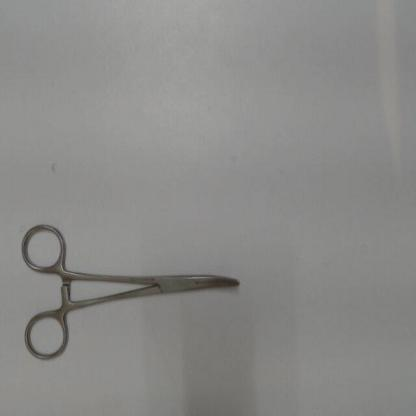Crile Artery Forceps: (19, 212, 249, 370)
